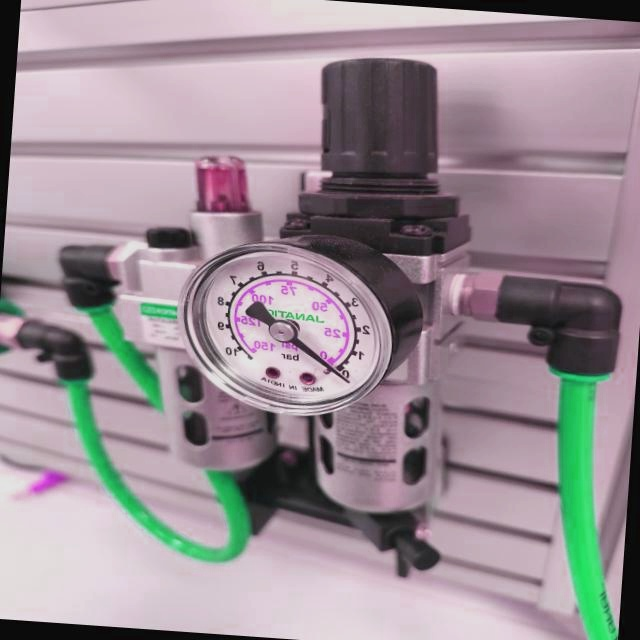FRL unit: (35, 29, 640, 599)
push button: (170, 223, 430, 424)
